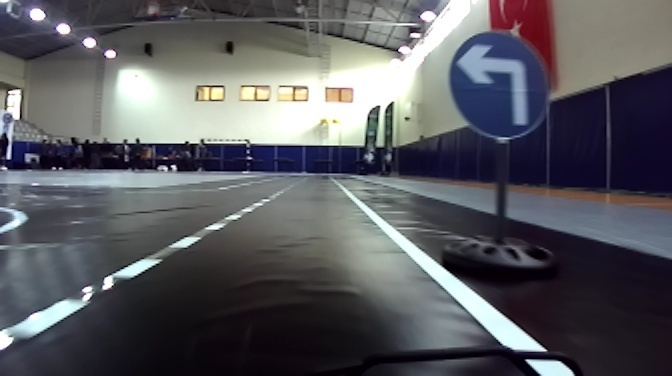sola_donus: (448, 34, 546, 136)
